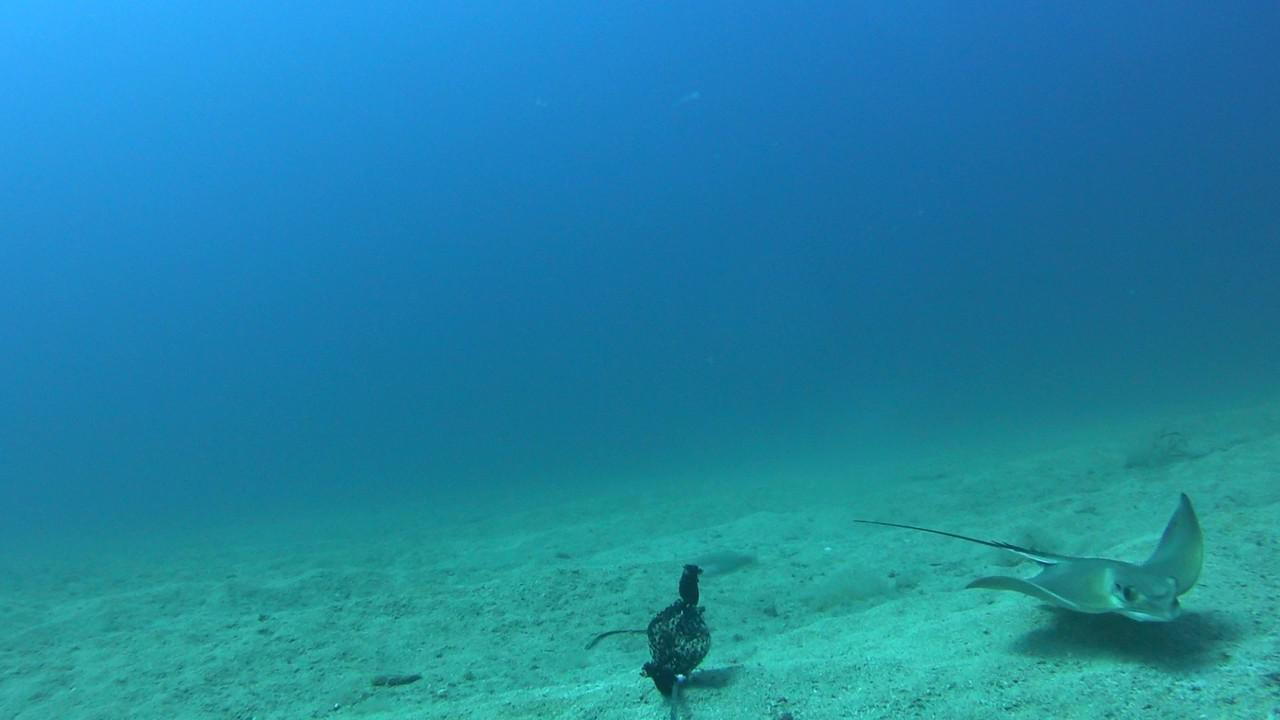myliobatis: (847, 496, 1218, 638)
